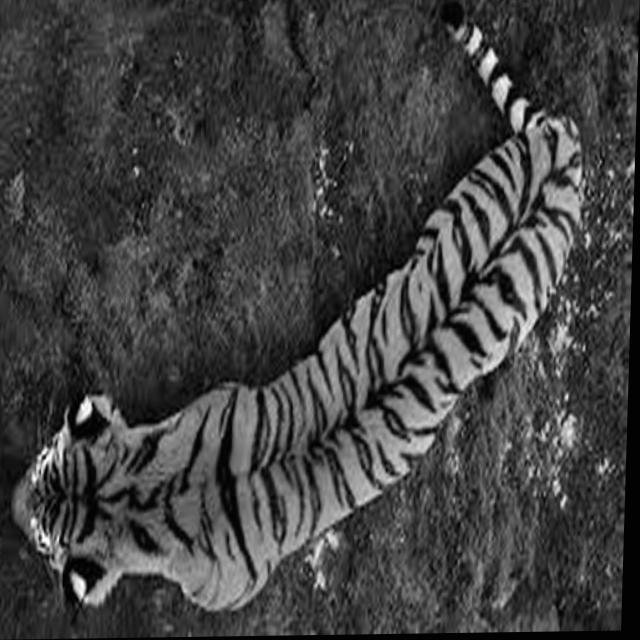Tiger: (6, 0, 595, 624)
